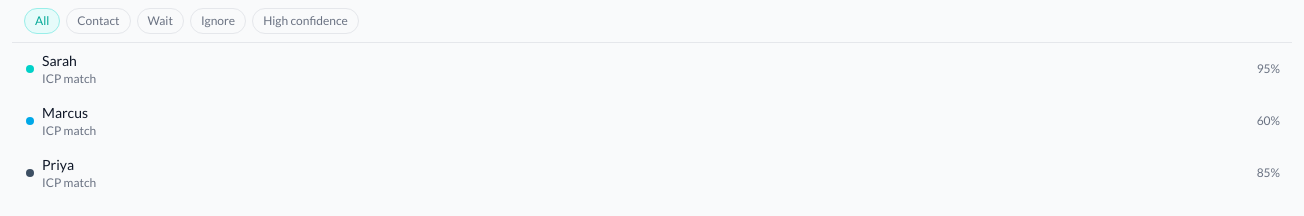
Scenario: QueuePane › clicking All resets every active filter
The width and height of the screenshot is (1304, 216).
What coordinates should you click on to do the following:
click the button "Wait"
I would click on:
 (160, 21)
Its box is [136,8,184,34].
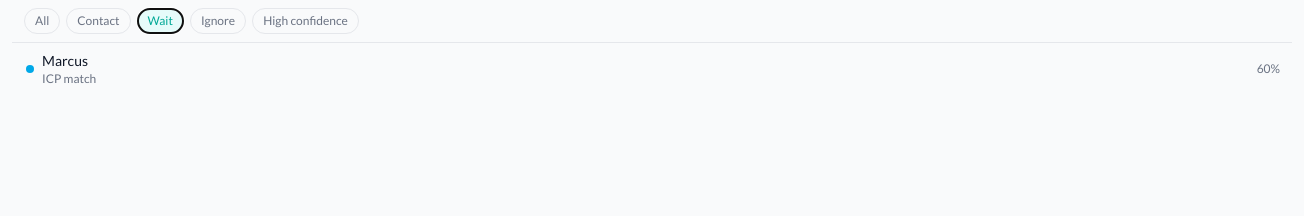
What coordinates should you click on to do the following:
click the button "All"
I would click on:
 (42, 21)
Its box is [24,8,60,34].
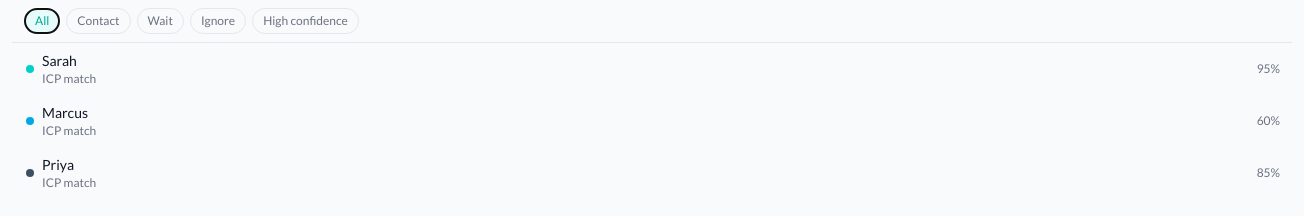
Check: the number of list items is 3, box [12,43,1292,95]; [12,95,1292,147]; [12,147,1292,199]
